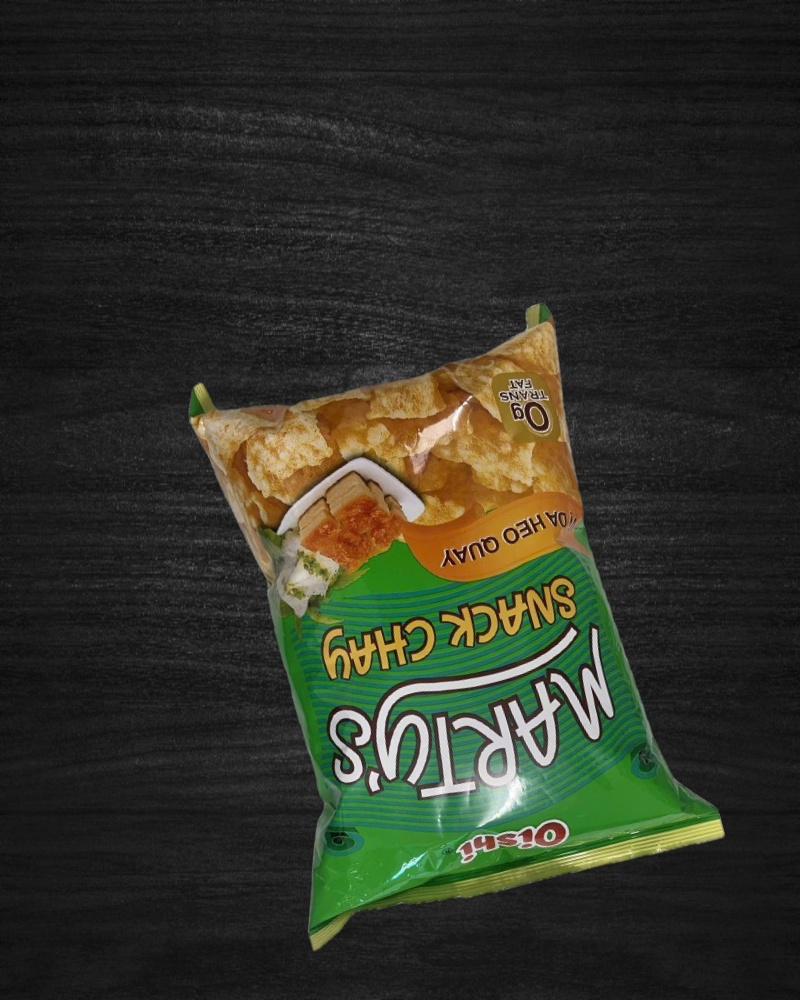Snack chay: (184, 283, 727, 947)
